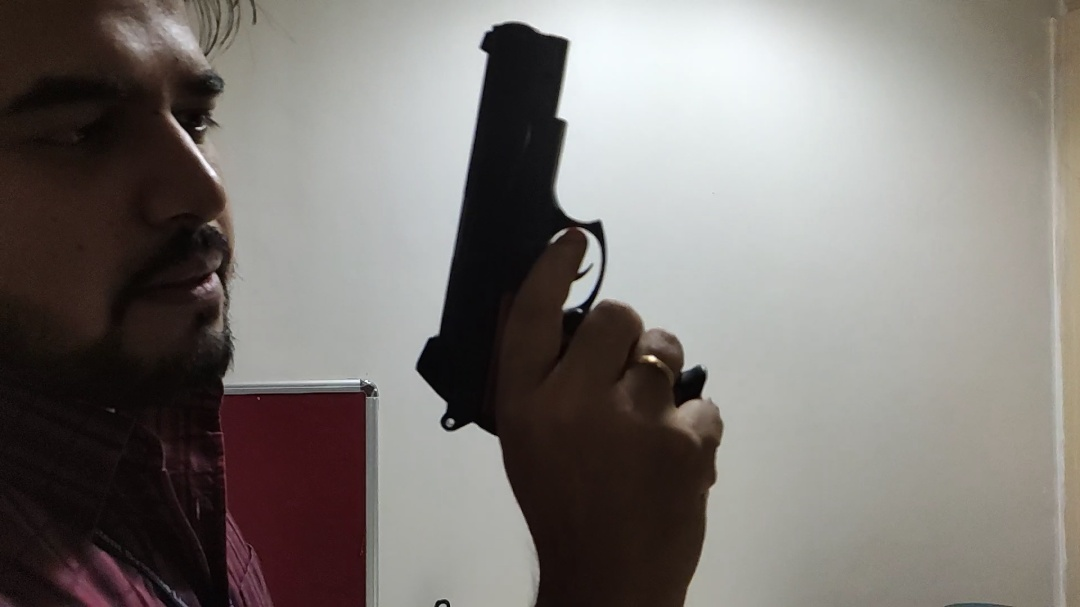gun: (412, 19, 711, 446)
